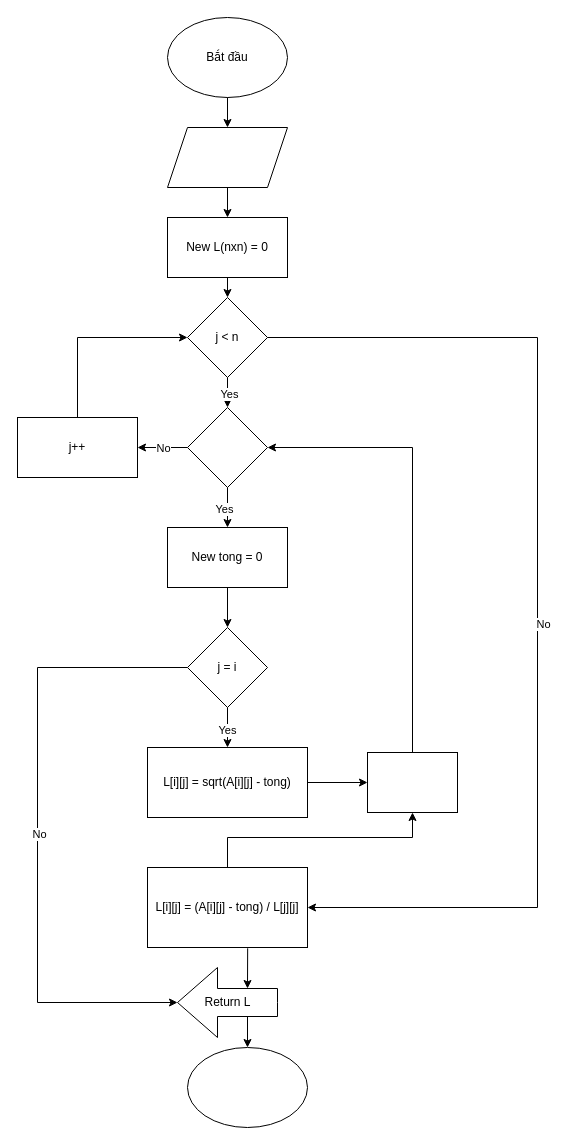
The diagram is 567 pixels wide and 1145 high, and some of its shapes have lost their labels. The centre of each missing label's shape, as x and y in pixels:
"i < n" goes at (227,447).
"i++" goes at (412,782).
"Kết thúc" goes at (247,1087).
"Nhập ma trận A" goes at (227,157).
